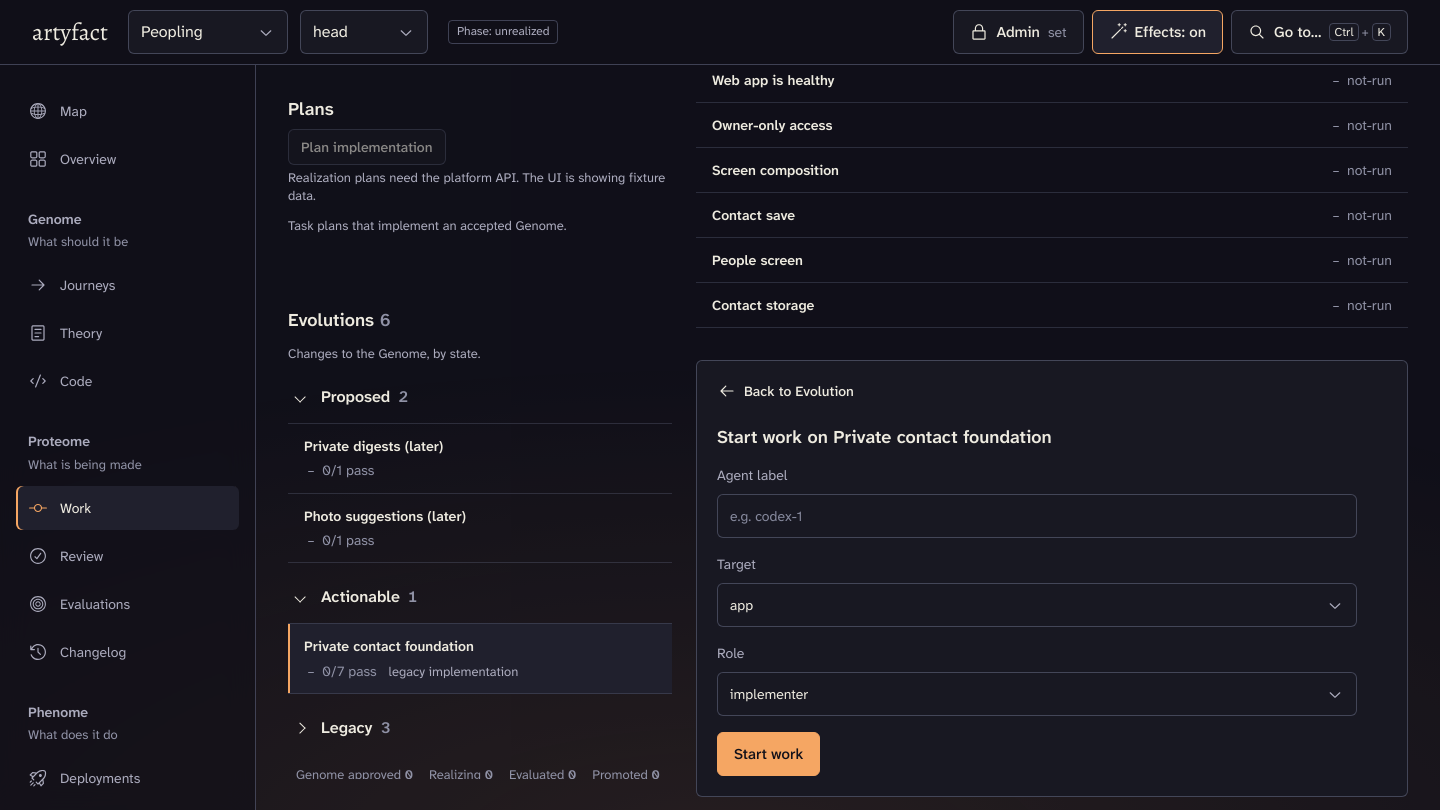
Test: StartWorkPanel against the API › says plainly when start work is refused with 401
This screenshot has width=1440, height=810.
(page scrolled)
Expected: the field labelled "Agent label" is shown, [717,494,1357,538]
Step 1. Click the button "Start work" → (769, 754), box [717,732,820,776]
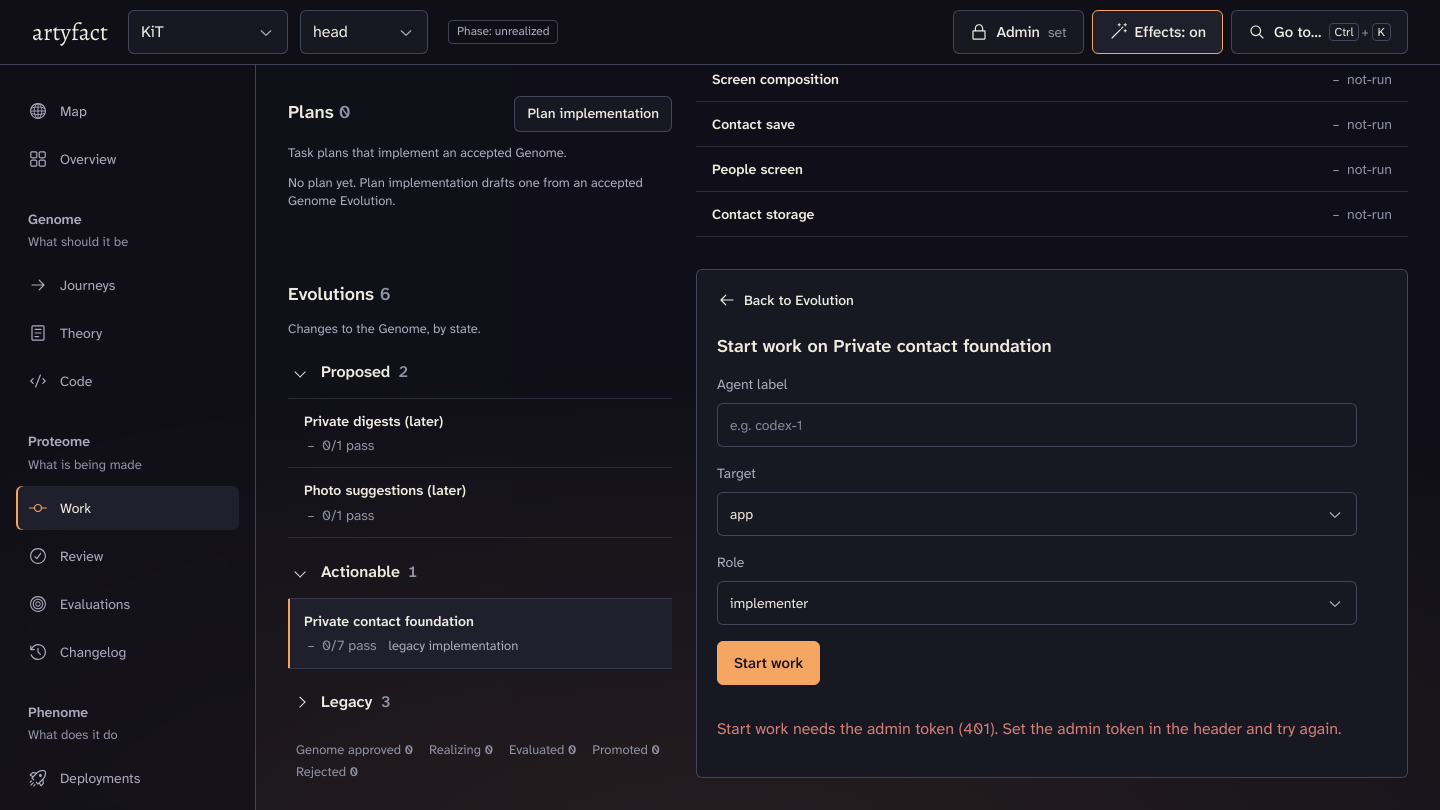
Expected: the message shows "needs the admin token (401)", [717,718,1341,739]
